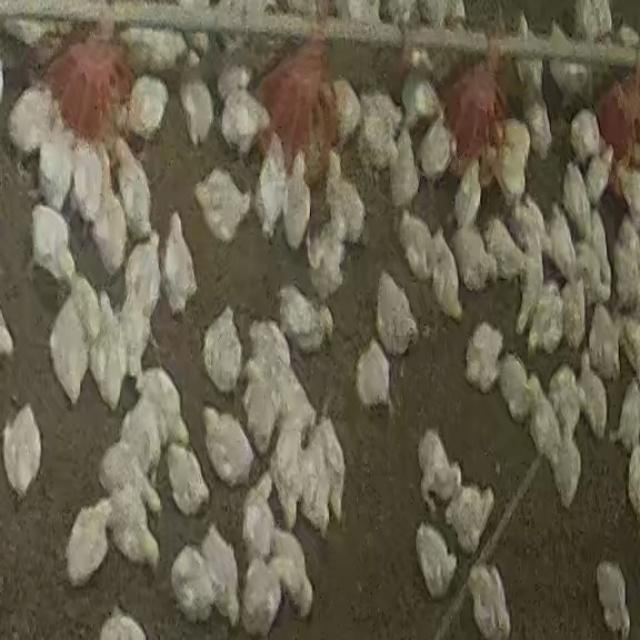chicken: (102, 478, 162, 575), (47, 286, 93, 408), (118, 382, 172, 478), (268, 420, 313, 529), (196, 524, 243, 628), (202, 408, 258, 492), (267, 524, 315, 622), (524, 384, 566, 490), (65, 500, 115, 588), (93, 299, 132, 410), (169, 542, 221, 625), (240, 357, 283, 457), (98, 439, 153, 516), (270, 285, 333, 352), (113, 138, 152, 245), (218, 81, 270, 160), (442, 481, 496, 557), (509, 11, 549, 113), (2, 403, 44, 499), (160, 211, 198, 317), (201, 304, 245, 395), (6, 84, 58, 161), (122, 228, 162, 328), (239, 548, 284, 636), (416, 429, 462, 515), (449, 218, 497, 299), (195, 167, 248, 240), (30, 202, 76, 286), (356, 91, 404, 171), (547, 366, 587, 462), (164, 441, 212, 520), (510, 199, 551, 289), (466, 562, 512, 640), (304, 213, 347, 296), (324, 149, 364, 238), (36, 127, 76, 215), (70, 139, 108, 231), (314, 421, 347, 526), (178, 62, 217, 150), (430, 228, 466, 323), (120, 26, 191, 74), (377, 270, 417, 355), (252, 318, 296, 395), (463, 320, 507, 396), (482, 212, 527, 286), (494, 118, 533, 202), (415, 523, 458, 599), (545, 205, 582, 292), (546, 422, 582, 511), (126, 72, 170, 144), (97, 178, 130, 274), (525, 281, 566, 356), (240, 476, 278, 556), (355, 340, 397, 412), (574, 352, 608, 438), (494, 349, 534, 422), (610, 215, 640, 311), (582, 204, 613, 296), (594, 560, 631, 636), (560, 158, 594, 238), (416, 114, 454, 184), (586, 302, 619, 382), (390, 129, 422, 211), (514, 259, 546, 340), (399, 209, 437, 277), (260, 133, 283, 241), (400, 68, 441, 125), (452, 161, 482, 237), (68, 268, 102, 335), (286, 149, 309, 247), (568, 105, 604, 167), (560, 272, 587, 352), (548, 56, 591, 105), (331, 79, 363, 144), (521, 96, 553, 161), (616, 377, 640, 457), (98, 606, 148, 640), (584, 145, 612, 205), (217, 60, 255, 103), (619, 313, 640, 379)
